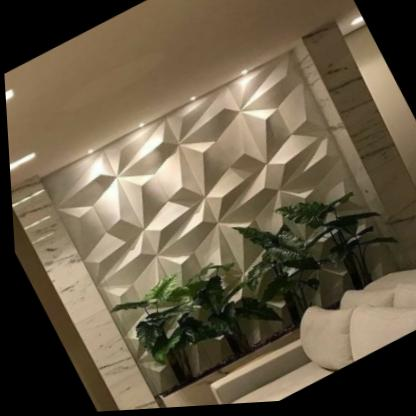Futech tiles: (43, 53, 366, 317)
